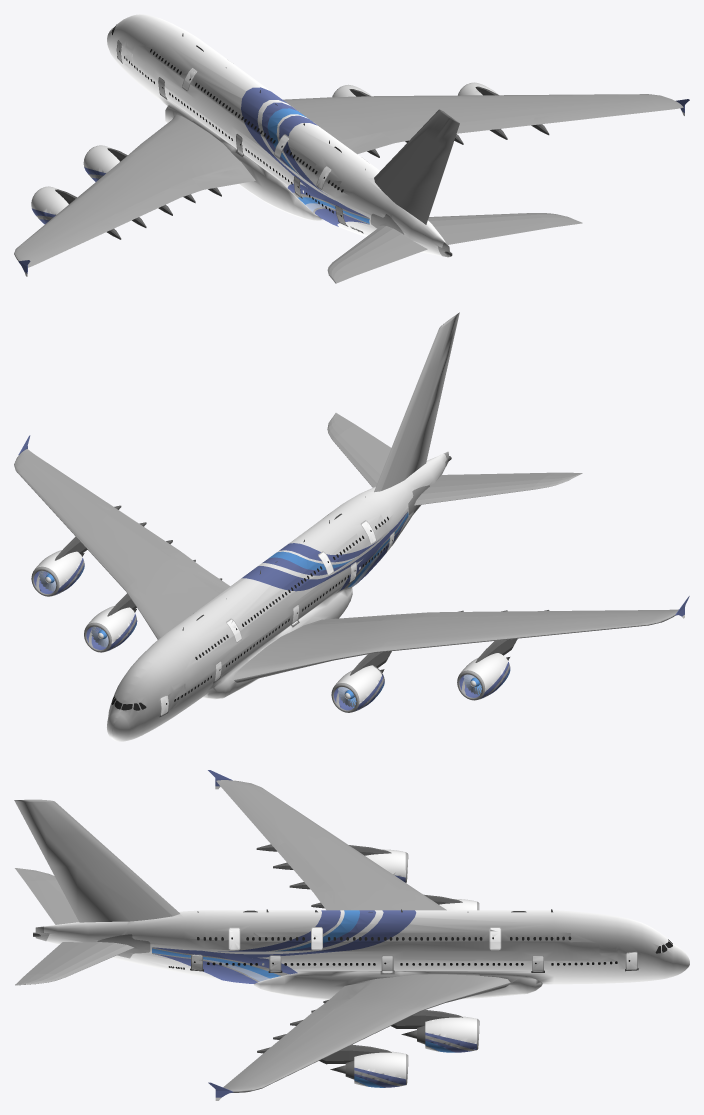
The picture shows the model from 3 angles, top to bottom: view 1: azimuth 30°, elevation 25°; view 2: azimuth 150°, elevation 25°; view 3: azimuth 270°, elevation 25°; orthographic projection. The views are drawn at different scales.
Visible parts, largest first — view 1: Airbus; view 2: Airbus; view 3: Airbus.
Part boxes in pixels (x1,y1,x2,y2): Airbus: [14, 14, 689, 283]; Airbus: [14, 312, 689, 741]; Airbus: [14, 770, 689, 1100].
Size of the model in its own units: 1.66 by 0.4761 by 1.51.
